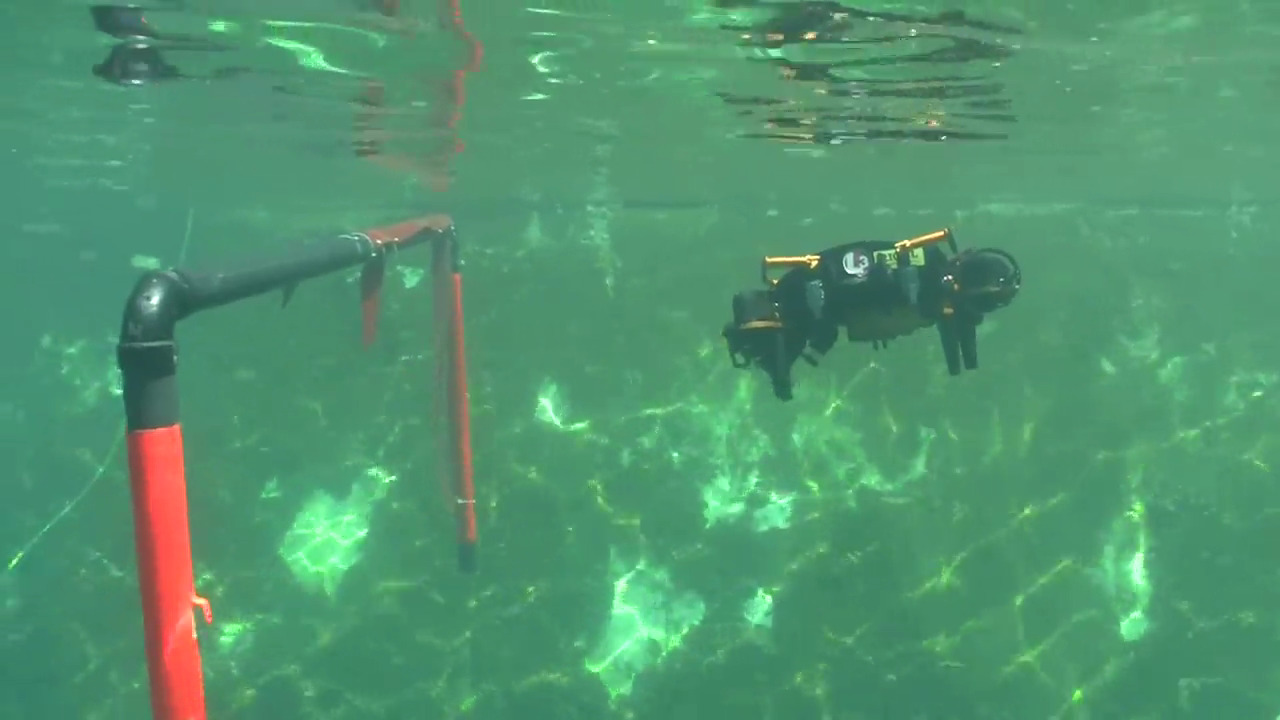gate: (107, 205, 484, 720)
